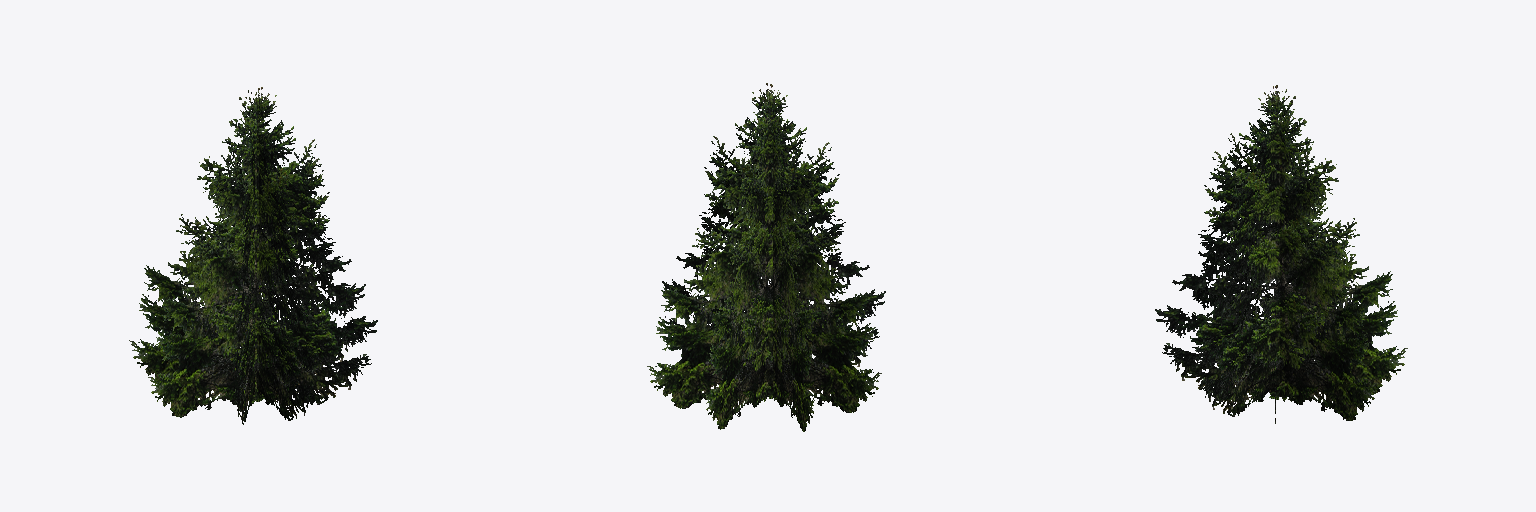
3 renders of one model, left to right at view 1: azimuth 30°, elevation 25°; view 2: azimuth 150°, elevation 25°; view 3: azimuth 270°, elevation 25°, orthographic.
Parts seen in each view (by area): view 1: Plane010; view 2: Plane010; view 3: Plane010.
Part boxes in pixels (bbox=[...]): Plane010: bbox=[129, 87, 377, 424]; Plane010: bbox=[647, 83, 885, 431]; Plane010: bbox=[1155, 85, 1407, 423].
Bounding box in the file's own units: 20.06 × 29.72 × 20.06.
1 materials, 1 textured.